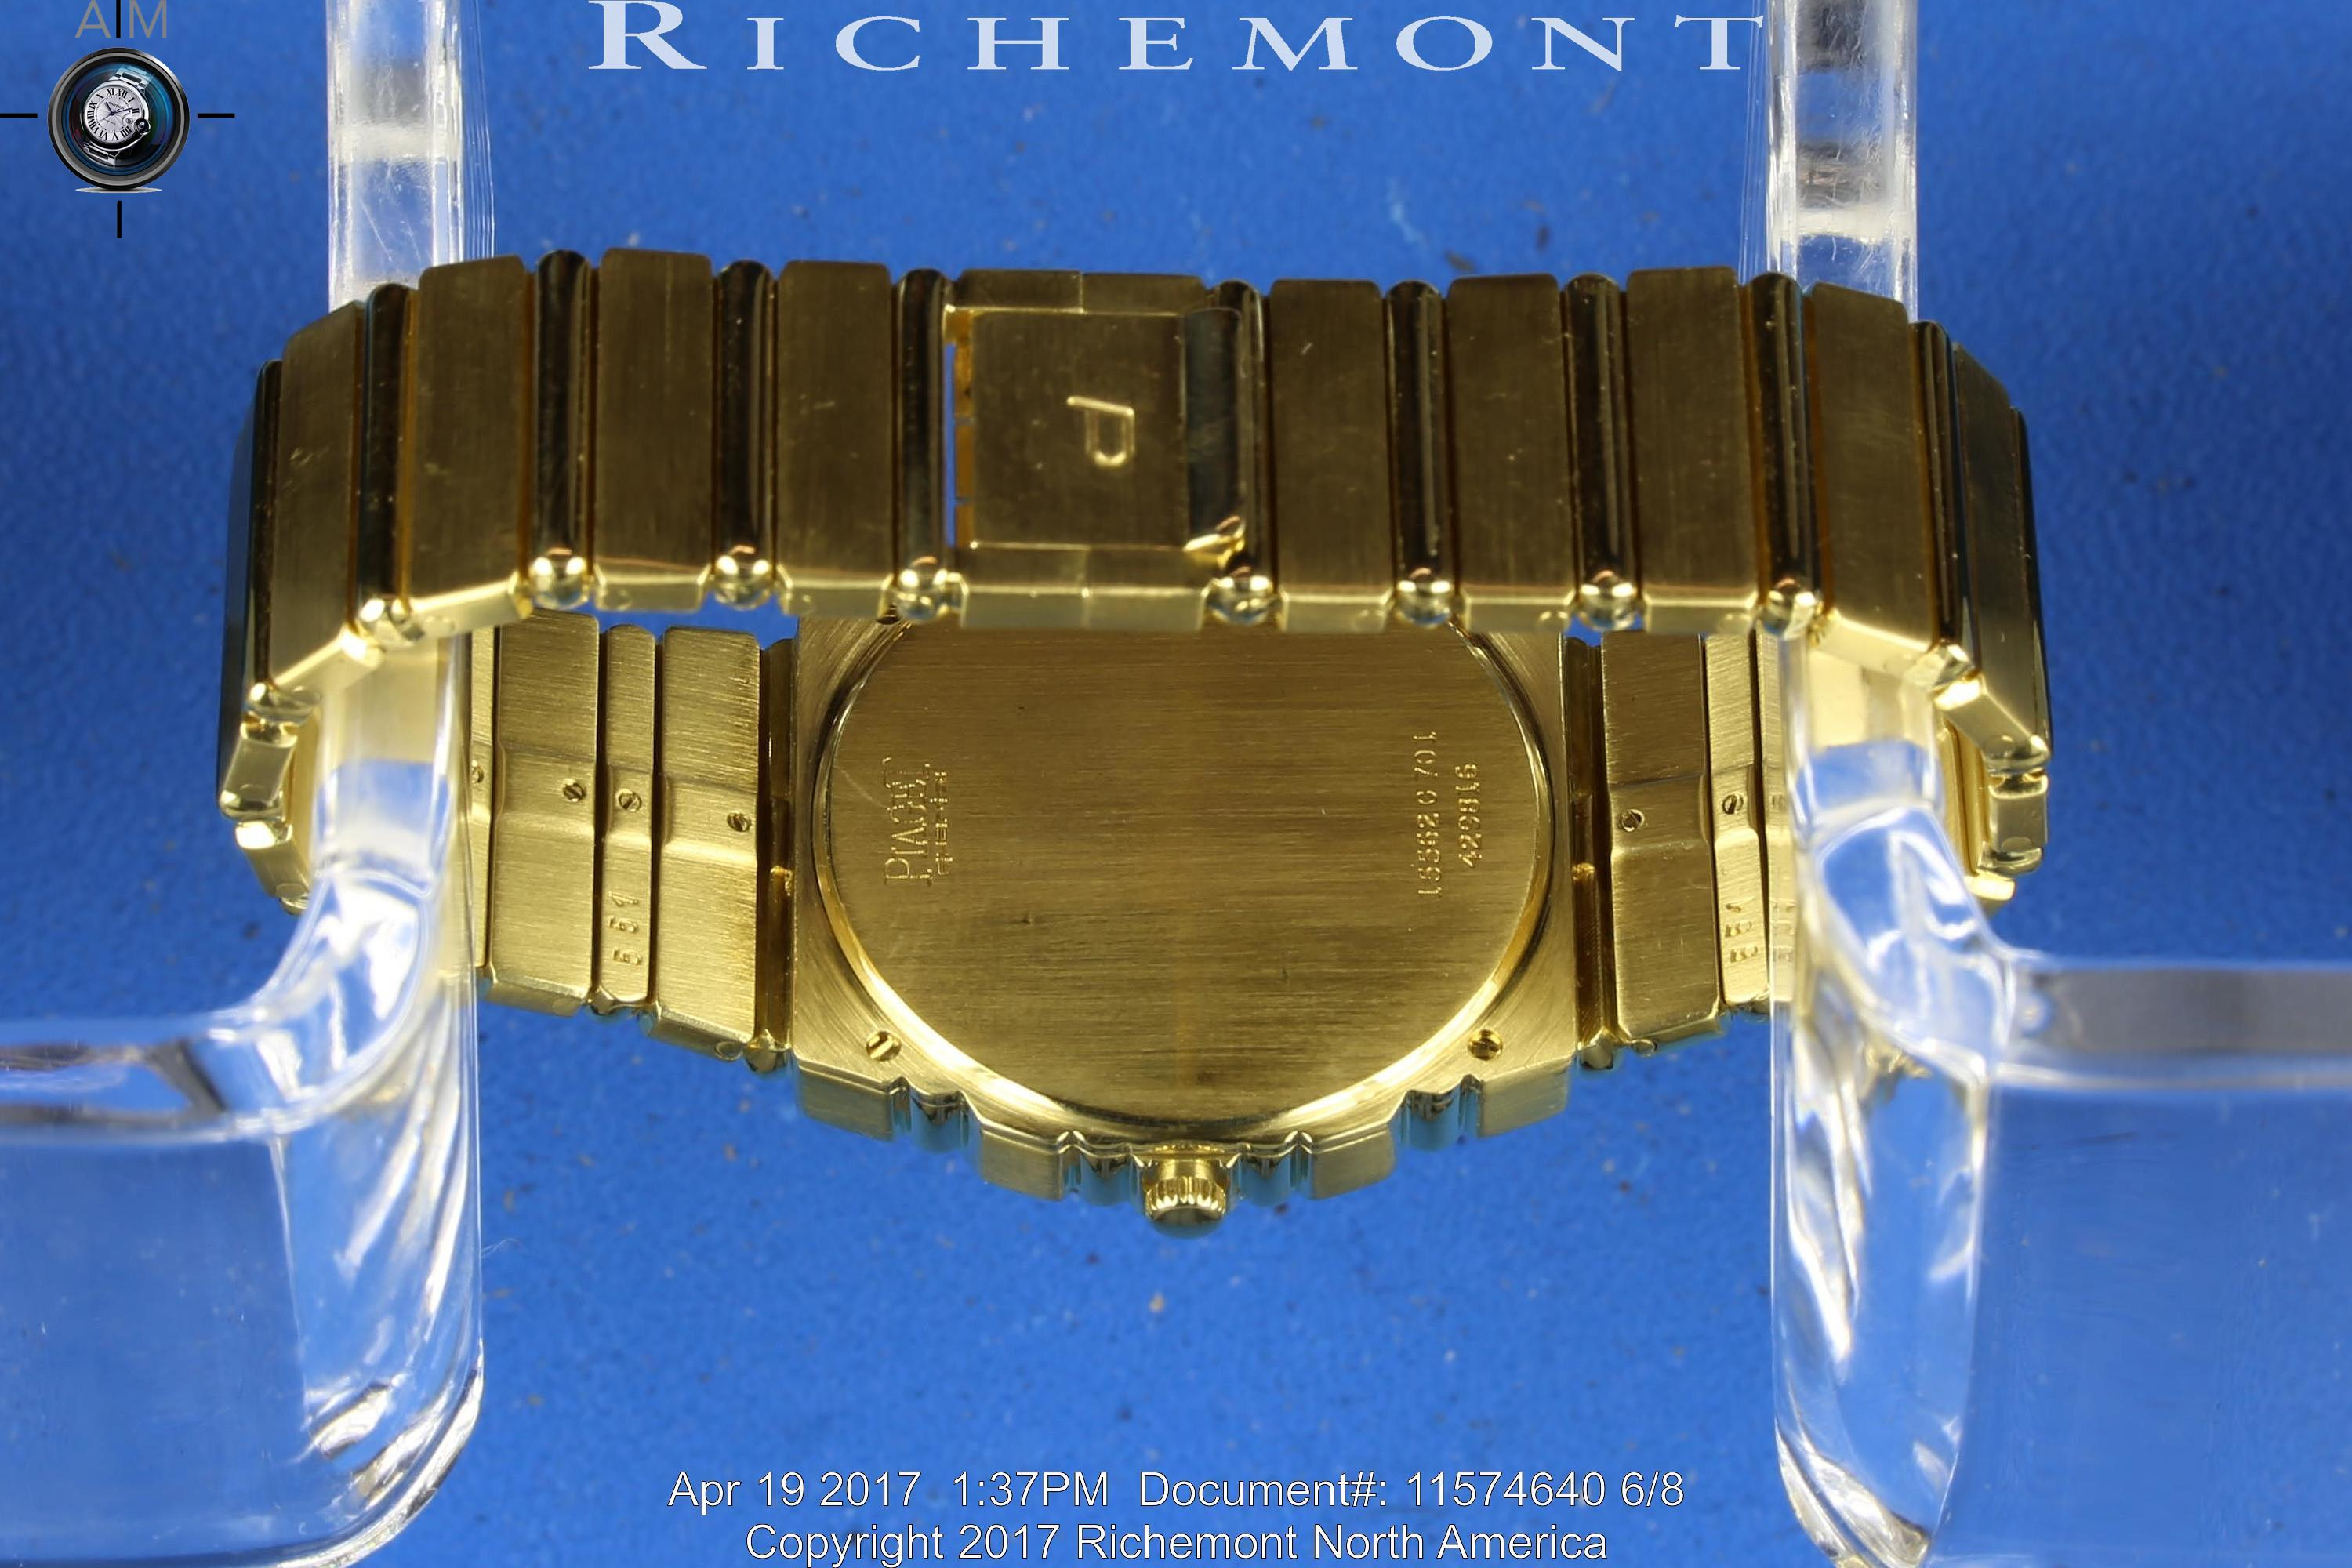Watch BackCase: (791, 619, 1591, 1237)
